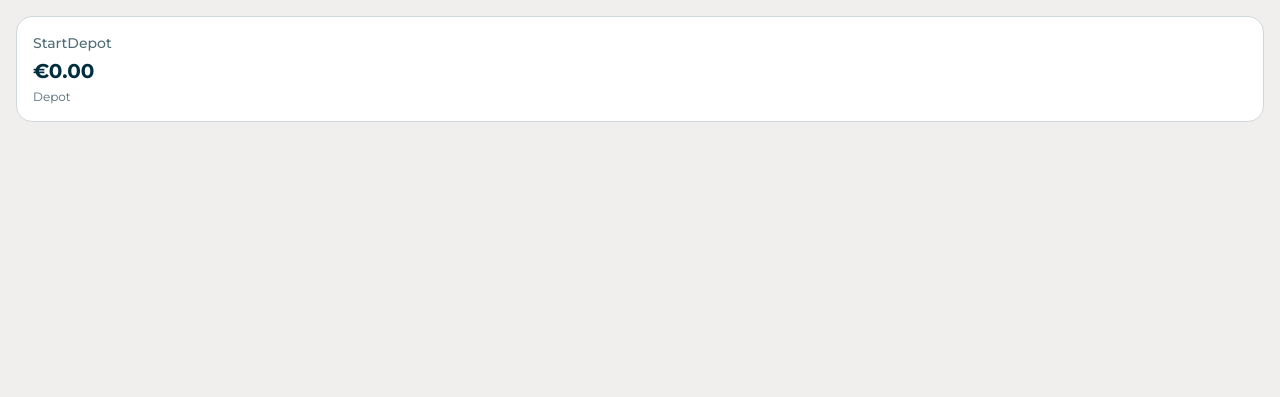
Test: Investments › entry shows StartDepot with €0.00 and navigates to StartDepot
Step 1. Click the button "StartDepot €0.00 Depot" → coordinates (72, 43), box top-left (16, 16), bottom-right (1264, 122)
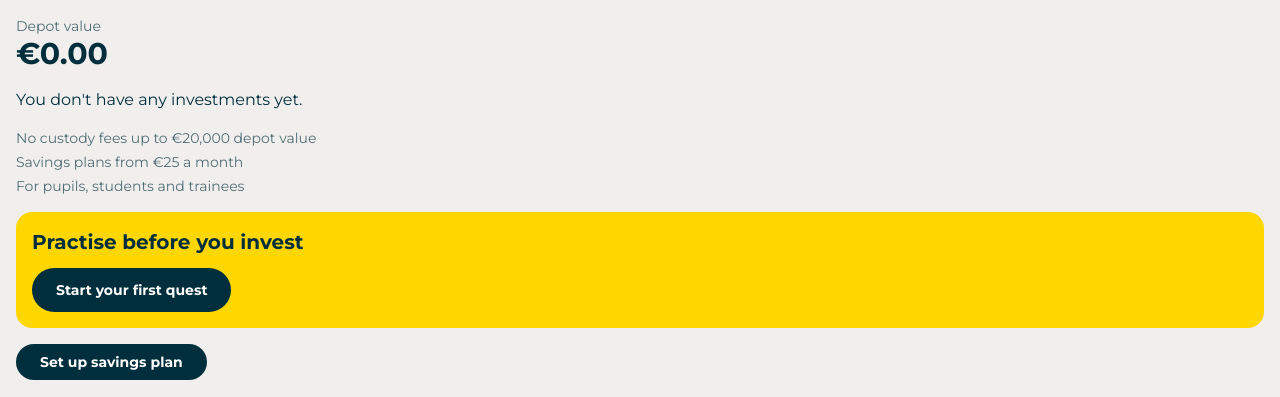
Check: the text "You don't have any investments yet." is shown, box top-left (16, 90), bottom-right (302, 109)
